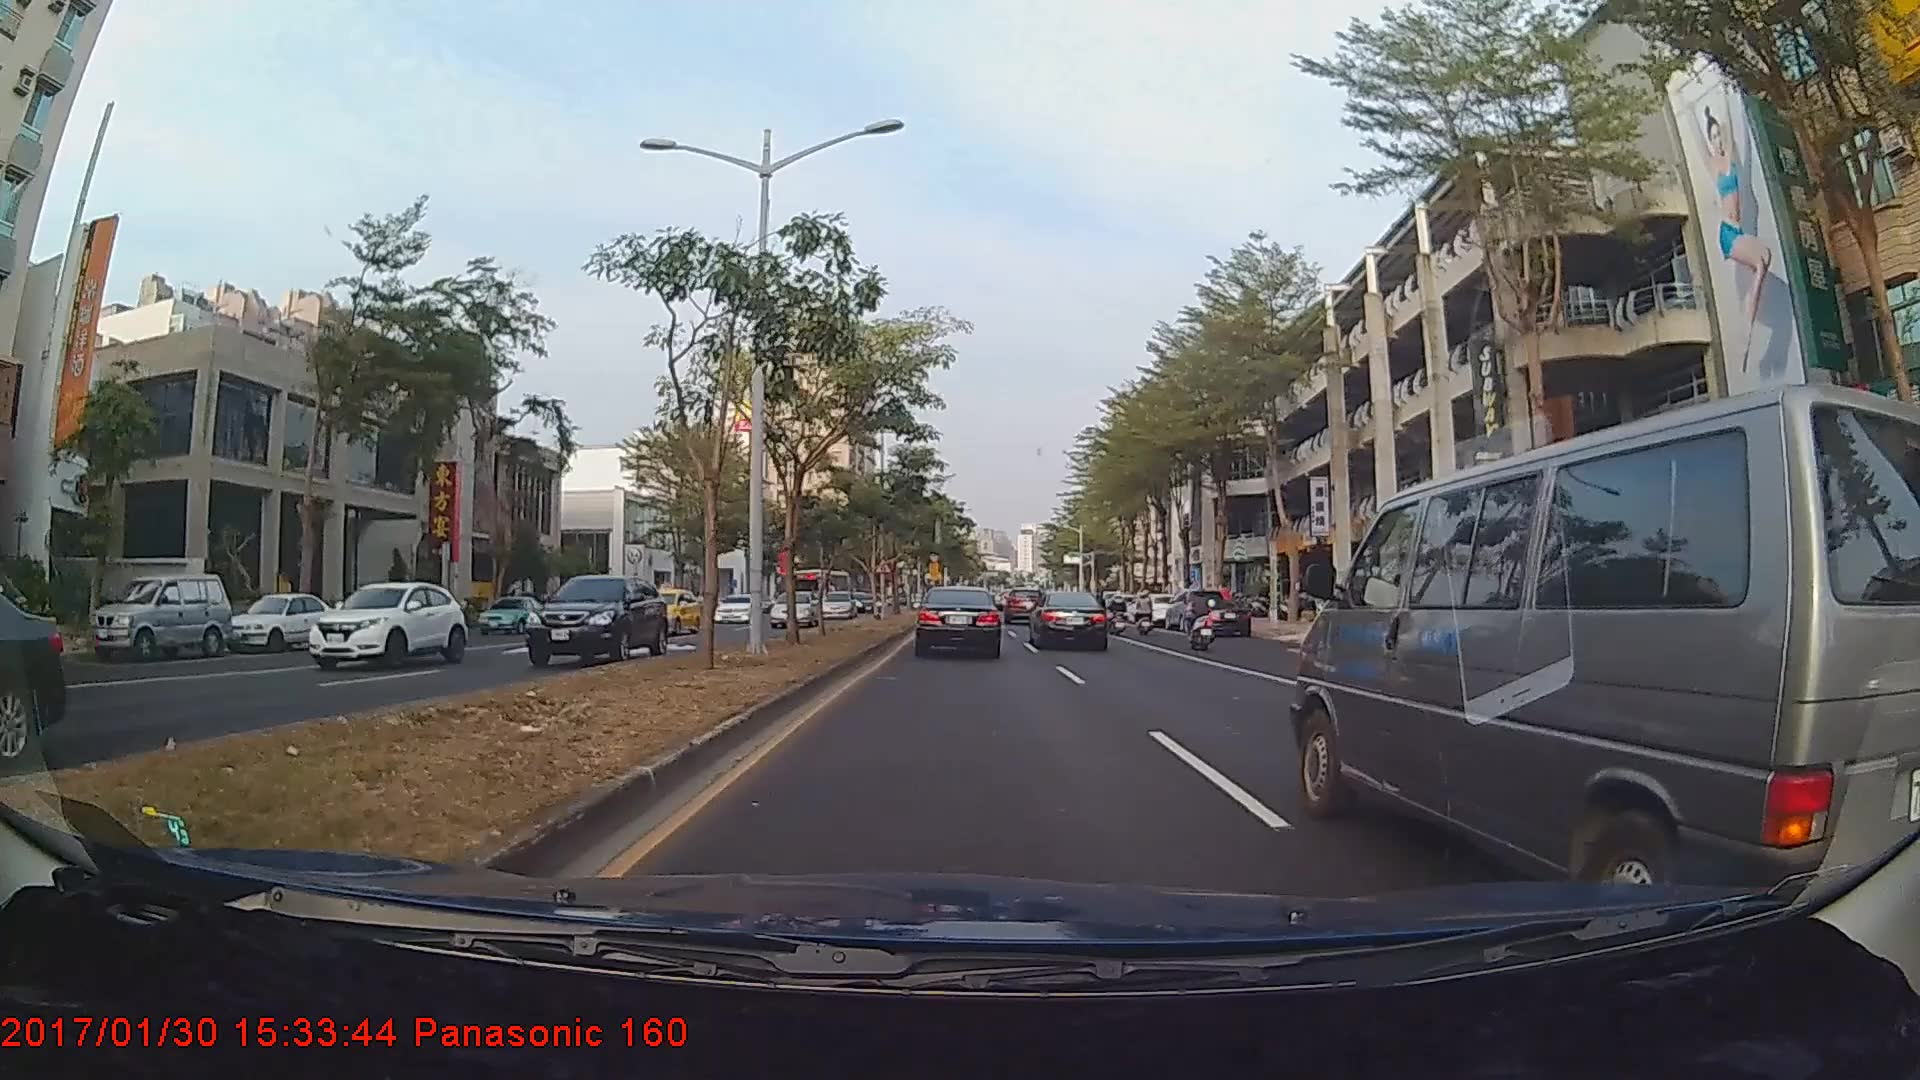rider: (1182, 585, 1219, 653), (1132, 588, 1159, 641)
vehicle: (1289, 402, 1896, 902), (302, 579, 470, 676), (520, 572, 667, 667), (90, 574, 232, 662), (917, 583, 1002, 657), (1030, 589, 1109, 650), (626, 588, 701, 637), (1179, 599, 1250, 640), (792, 568, 852, 613), (770, 589, 822, 630), (711, 592, 762, 623), (1005, 587, 1043, 622), (819, 589, 857, 619)
